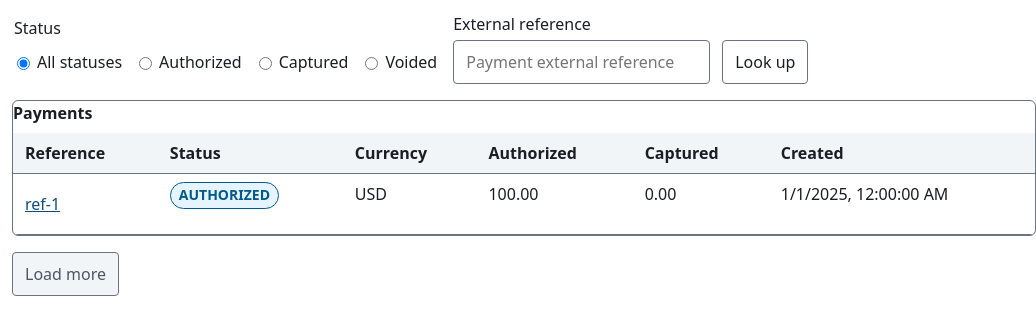
it: PaymentsPage › filters by status
Expected: the button "ref-1" is shown, [25, 182, 60, 226]
Click the radio button labelled "Captured" at coordinates (265, 64), box [259, 57, 272, 70]
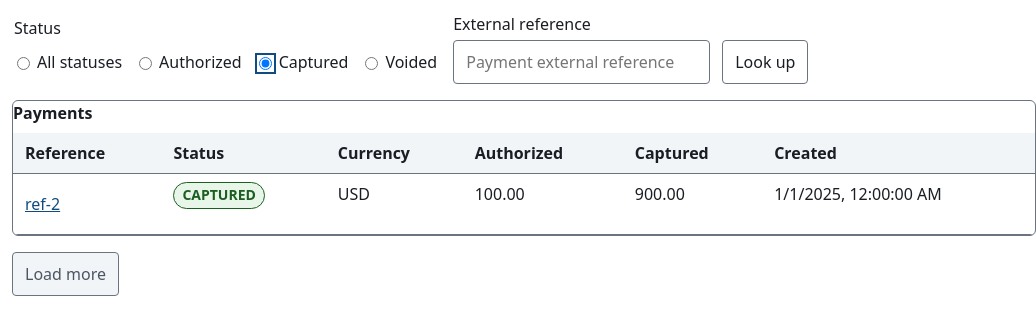
Result: the button "ref-2" is shown at [25, 182, 60, 226]
Result: the button "ref-1" is gone
